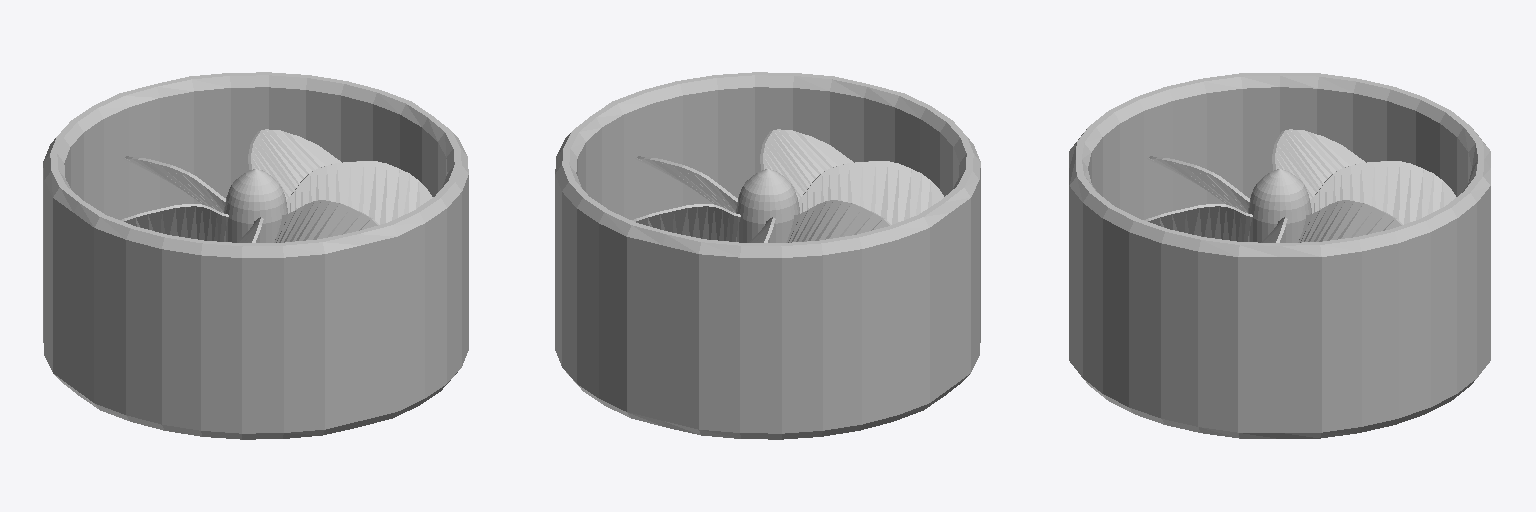
Rendered from big_propeller.obj.
3 views of the same model, side by side, from view 1: azimuth 30°, elevation 25°; view 2: azimuth 150°, elevation 25°; view 3: azimuth 270°, elevation 25° (orthographic).
Parts seen in each view (by area): view 1: Cylinder.001, Cube.002_Cube.003, Cylinder_Cylinder.002, Cube.001_Cube.002, Cube.003_Cube.004, Cube.005_Cube.006, Cube_Cube.001; view 2: Cylinder.001, Cube.004_Cube.005, Cylinder_Cylinder.002, Cube.003_Cube.004, Cube.005_Cube.006, Cube.001_Cube.002, Cube.002_Cube.003; view 3: Cylinder.001, Cube_Cube.001, Cylinder_Cylinder.002, Cube.005_Cube.006, Cube.001_Cube.002, Cube.003_Cube.004, Cube.004_Cube.005.
Boxes of the visible parts, <box> form: Cylinder.001: <box>43,72,468,439</box>; Cube.002_Cube.003: <box>286,161,432,224</box>; Cylinder_Cylinder.002: <box>224,169,287,242</box>; Cube.001_Cube.002: <box>248,129,341,199</box>; Cube.003_Cube.004: <box>274,200,378,242</box>; Cube.005_Cube.006: <box>120,204,228,241</box>; Cube_Cube.001: <box>123,156,225,212</box>; Cylinder.001: <box>555,72,980,439</box>; Cube.004_Cube.005: <box>798,161,943,224</box>; Cylinder_Cylinder.002: <box>736,169,799,242</box>; Cube.003_Cube.004: <box>760,129,853,199</box>; Cube.005_Cube.006: <box>786,200,890,242</box>; Cube.001_Cube.002: <box>632,204,740,241</box>; Cube.002_Cube.003: <box>635,156,737,212</box>; Cylinder.001: <box>1069,73,1490,438</box>; Cube_Cube.001: <box>1310,161,1455,224</box>; Cylinder_Cylinder.002: <box>1248,169,1311,242</box>; Cube.005_Cube.006: <box>1272,129,1365,199</box>; Cube.001_Cube.002: <box>1298,200,1402,242</box>; Cube.003_Cube.004: <box>1144,204,1252,241</box>; Cube.004_Cube.005: <box>1147,156,1249,212</box>.
Bounding box in the file's own units: 3.95 × 2 × 3.95.